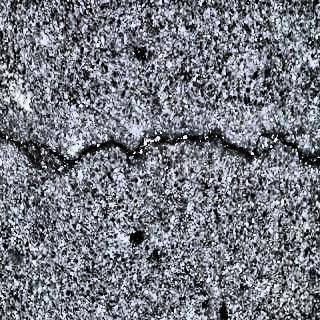crack: (1, 123, 320, 183)
